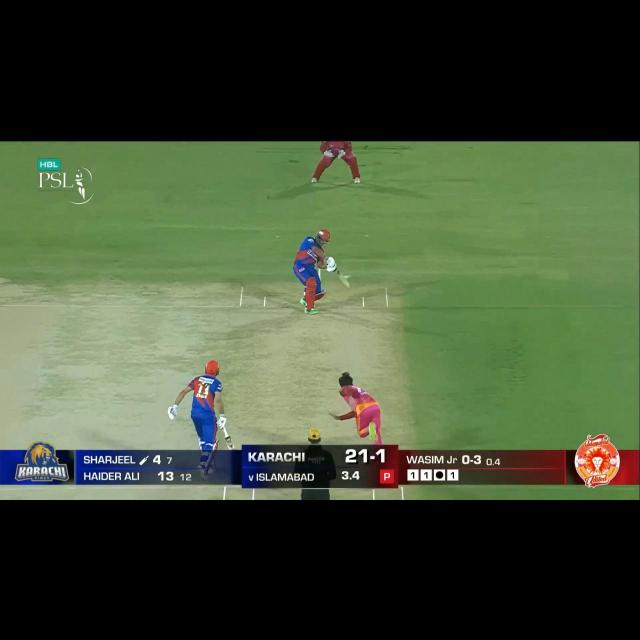bat: (334, 268, 350, 288), (223, 436, 236, 450)
toe: (346, 281, 351, 289)
